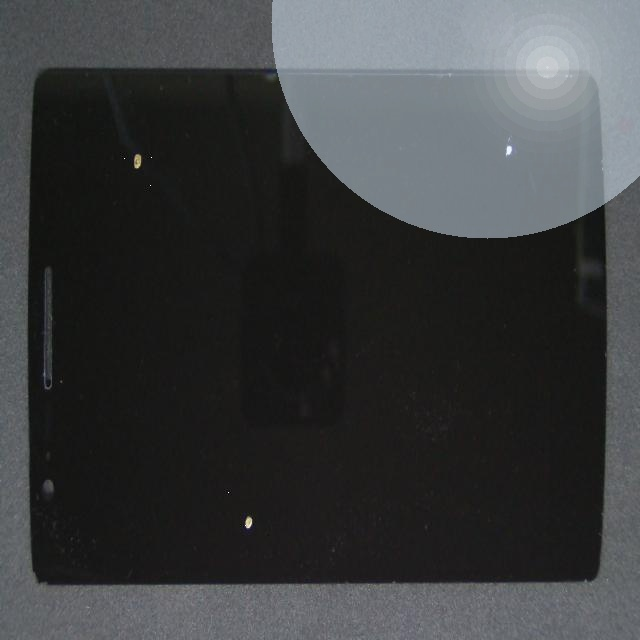stain: (127, 273, 382, 640), (239, 105, 640, 275), (54, 54, 185, 263)
